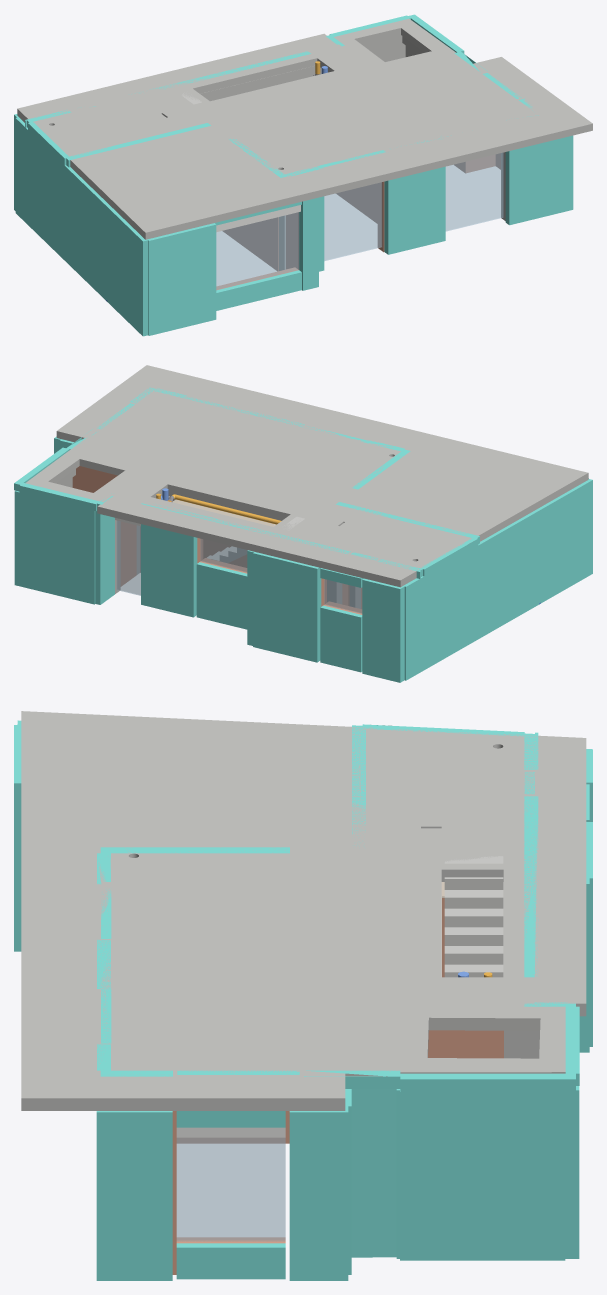
File: HouseEM_AR_F1.glb
3 renders of one model, top to bottom at view 1: azimuth 30°, elevation 25°; view 2: azimuth 150°, elevation 25°; view 3: azimuth 270°, elevation 25°, orthographic. The views are drawn at different scales.
Parts seen in each view (by area): view 1: AT-SB01, F1-ET06, F1-ET04, F1-EO07, F1-ET17, F1-ET01, F1-EO05, F1-EO06, F1-EO07-SILL-ET, F1-ET20, F1-INTW08, F1-BEAM05 (+11 smaller); view 2: AT-SB01, F1-ET06, F1-ET14, F1-ET07, F1-ET18, F1-ET05, F1-EO02-SILL-ET, F1-EO01-SILL-ET, F1-EO03, F1-ET15, F1-EO02, F1-EO01 (+13 smaller); view 3: AT-SB01, F1-ET13, F1-ET02, F1-EO04, F1-ET08, F1-ET10, F1-ST01, F1-EO04-SILL-ET, AT-ET02, F1-ET14, AT-ET11, F1-INTW06 (+15 smaller).
Boxes of the visible parts, box(x1,y1,x2,y2) form: AT-SB01: box(17, 18, 592, 239); F1-ET06: box(15, 117, 147, 336); F1-ET04: box(147, 223, 216, 335); F1-EO07: box(216, 212, 299, 289); F1-ET17: box(384, 166, 445, 254); F1-ET01: box(505, 137, 566, 225); F1-EO05: box(445, 152, 503, 231); F1-EO06: box(324, 182, 381, 260); F1-EO07-SILL-ET: box(216, 270, 301, 310); F1-ET20: box(299, 197, 318, 290); F1-INTW08: box(223, 217, 278, 271); F1-BEAM05: box(200, 66, 321, 101); AT-SB01: box(25, 365, 588, 587); F1-ET06: box(403, 479, 592, 680); F1-ET14: box(14, 490, 95, 604); F1-ET07: box(253, 552, 321, 662); F1-ET18: box(141, 524, 197, 617); F1-ET05: box(362, 578, 406, 682); F1-EO02-SILL-ET: box(196, 562, 247, 629); F1-EO01-SILL-ET: box(320, 605, 362, 672); F1-EO03: box(116, 520, 140, 595); F1-ET15: box(95, 511, 114, 604); F1-EO02: box(200, 539, 247, 572); F1-EO01: box(324, 579, 362, 613); AT-SB01: box(21, 711, 586, 1110); F1-ET13: box(403, 1092, 565, 1260); F1-ET02: box(96, 1111, 172, 1280); F1-EO04: box(176, 1137, 285, 1241); F1-ET08: box(289, 1106, 348, 1280); F1-ET10: box(351, 1089, 396, 1257); F1-ST01: box(444, 856, 503, 977); F1-EO04-SILL-ET: box(176, 1243, 285, 1279); AT-ET02: box(400, 1073, 575, 1091); F1-ET14: box(565, 1086, 579, 1258); AT-ET11: box(524, 796, 538, 977); F1-INTW06: box(434, 1030, 503, 1058).
Size of the model in its own units: 13.45 by 2.9 by 8.4.
